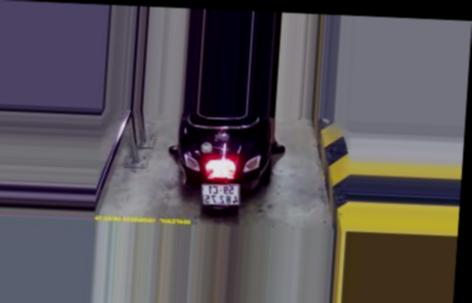License_Plate: (198, 180, 244, 208)
